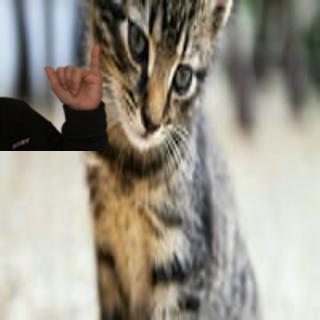HAVE: (41, 40, 110, 109)
